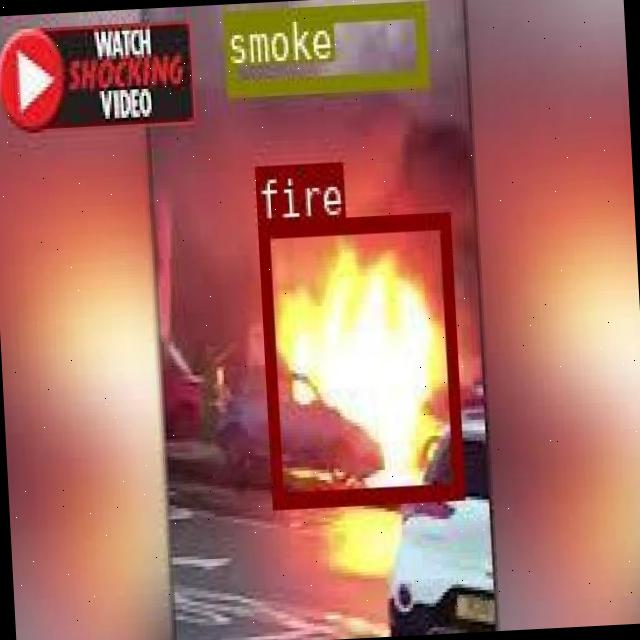fire: (255, 210, 462, 504)
smoke: (222, 0, 428, 94)
